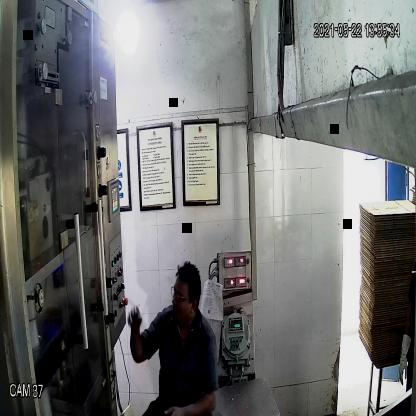goggles: (168, 284, 196, 308)
